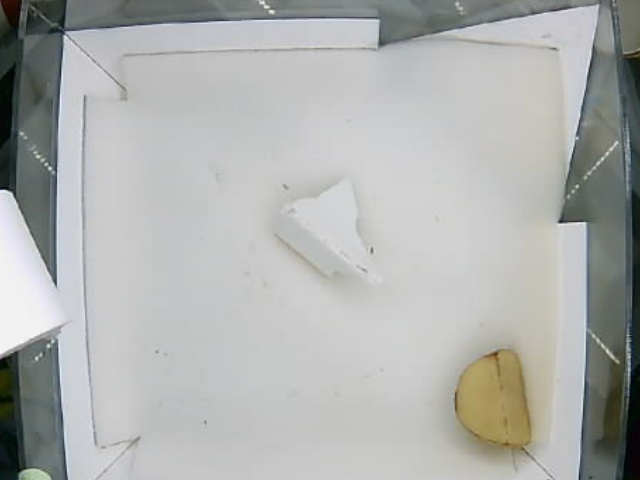China: (272, 176, 383, 293)
Potato: (454, 347, 534, 446)
